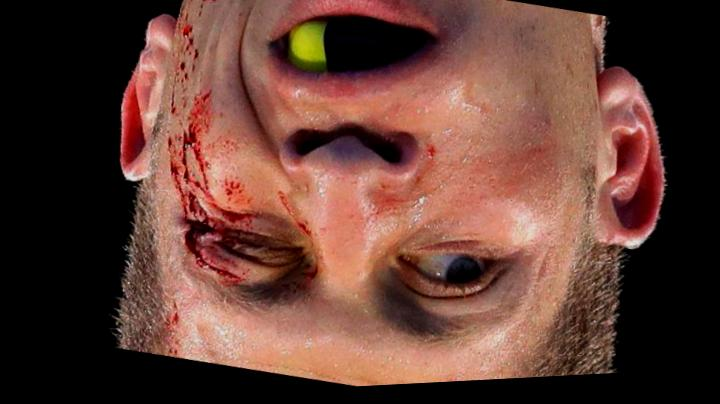Fire: (164, 0, 315, 298), (147, 302, 183, 361)
